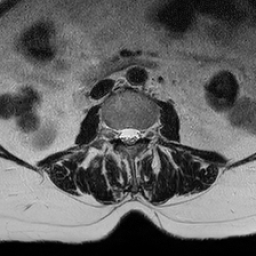CCS_normal: (125, 121, 132, 154)
LFS_normal: (140, 121, 148, 146)
LLS_normal: (132, 120, 140, 148)
RFS_normal: (109, 120, 117, 145)
RLS_normal: (117, 122, 125, 147)
